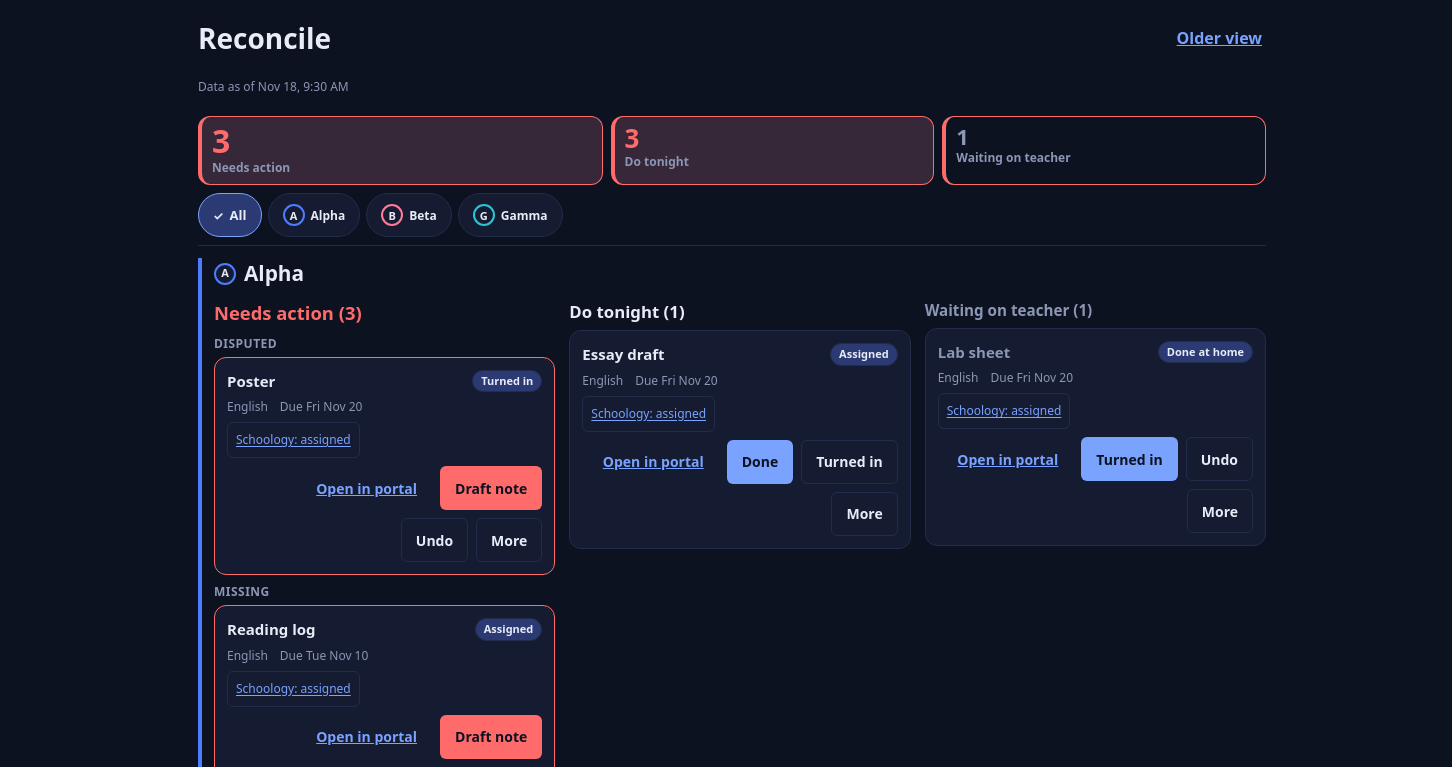
Test: kid switcher: All plus one chip per kid, selection lives in ?kid=
Expected: the heading "Alpha" is shown, x1=244 y1=258 x2=304 y2=289
Step 1. Click the button "B Beta" → (409, 215), box x1=366 y1=193 x2=452 y2=237
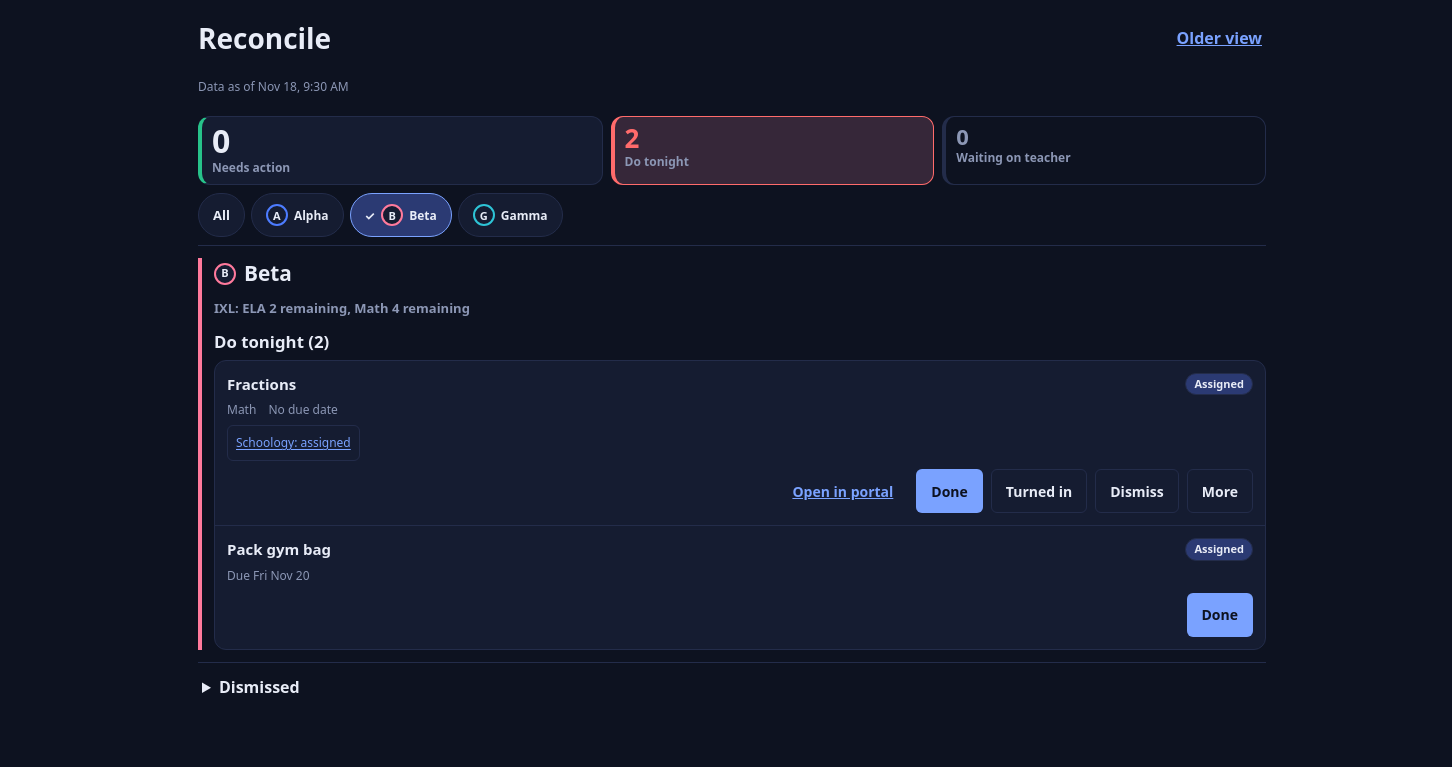
Expected: the heading "Beta" is shown, x1=244 y1=258 x2=292 y2=289
Expected: the text "2" is shown, x1=625 y1=125 x2=640 y2=151
Step 2. Click the button "All" → (221, 215), box x1=198 y1=193 x2=245 y2=237
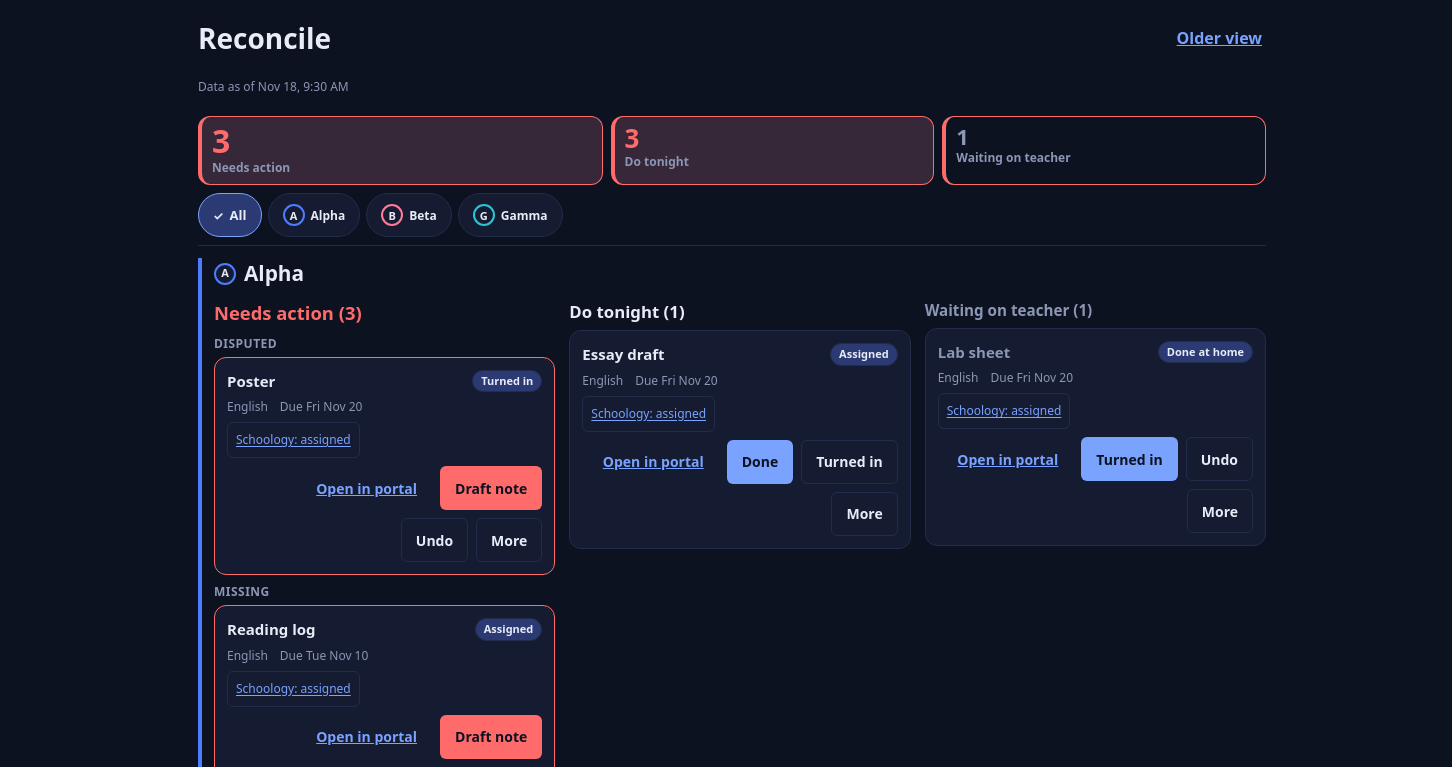
Expected: the heading "Alpha" is shown, x1=244 y1=258 x2=304 y2=289
